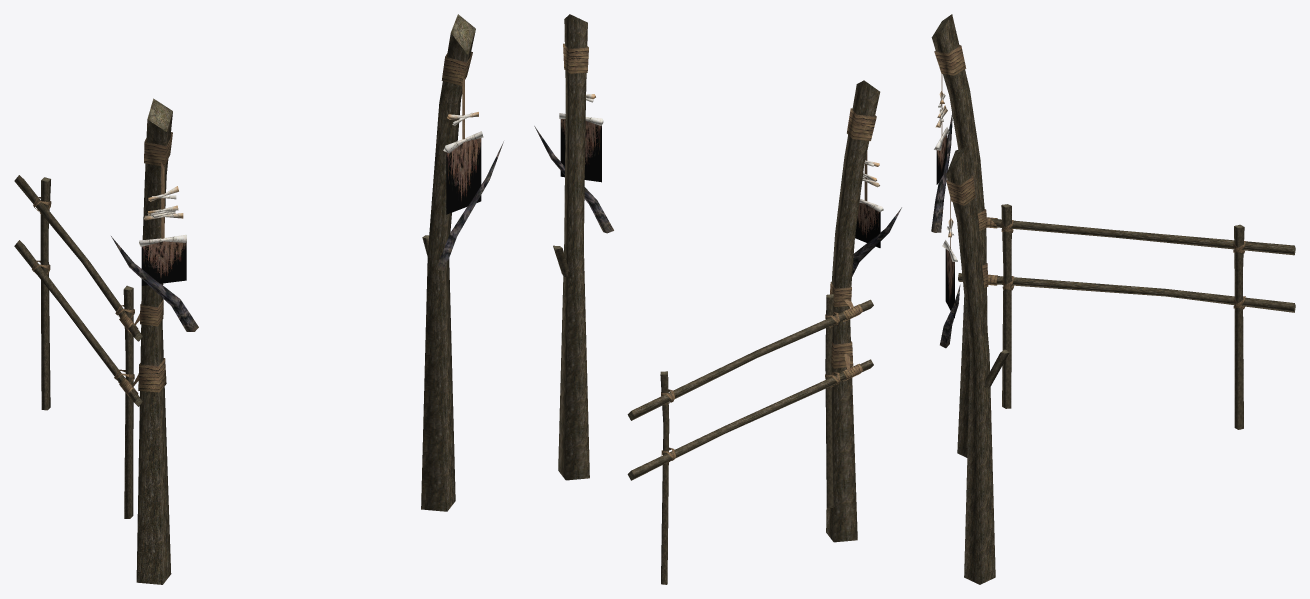
File: thm_dant_gate_l2.fbx
3 views of the same model, side by side, from view 1: azimuth 30°, elevation 25°; view 2: azimuth 150°, elevation 25°; view 3: azimuth 270°, elevation 25° (orthographic). The views are drawn at different scales.
Visible parts, largest first — view 1: mesh_node; view 2: mesh_node; view 3: mesh_node.
Boxes of the visible parts, x1,y1,x2,y2 form: mesh_node: [14, 14, 503, 584]; mesh_node: [534, 14, 901, 584]; mesh_node: [931, 14, 1295, 584].
Size of the model in its own units: 4.21 by 4.98 by 3.78.
